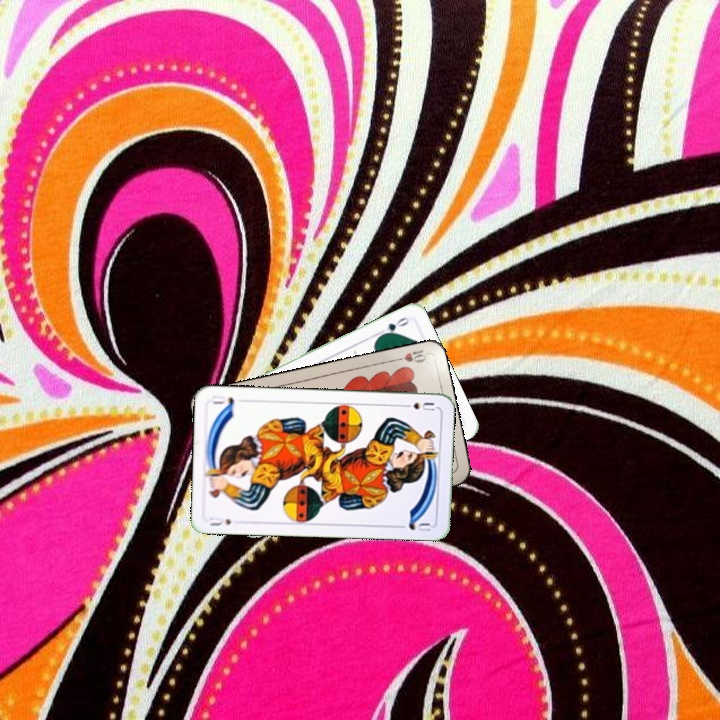GO: (374, 313, 412, 339)
H10: (389, 345, 429, 365)
SU: (398, 398, 438, 413), (206, 513, 234, 529)
